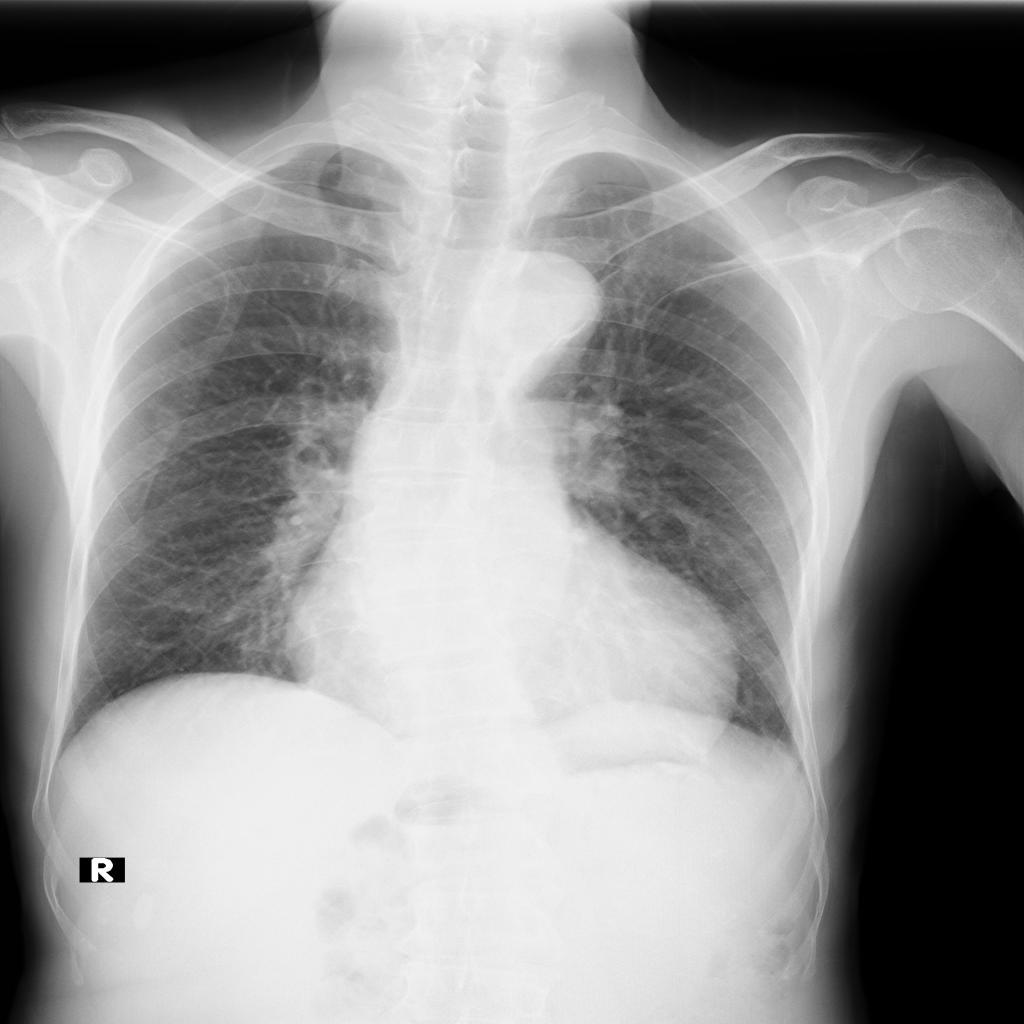Nodule: (156, 408, 181, 433)
